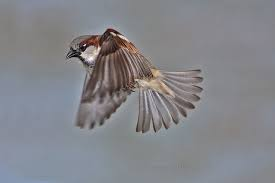hsparrow: (63, 25, 208, 141)
